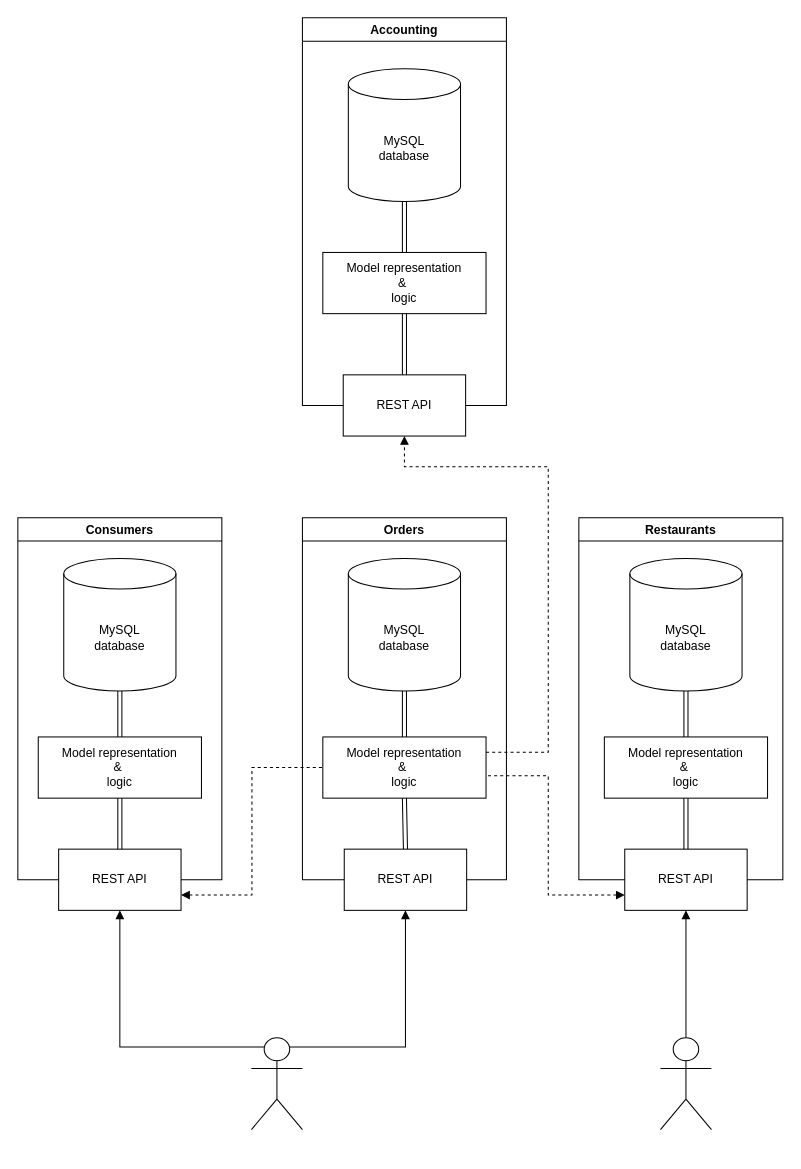
The diagram is 801 pixels wide and 1169 high, and some of its shapes have lost their labels. The centre of each missing label's shape, as x and y in pixels:
Consumer: point (276, 1083)
Restaurant: point (685, 1083)
